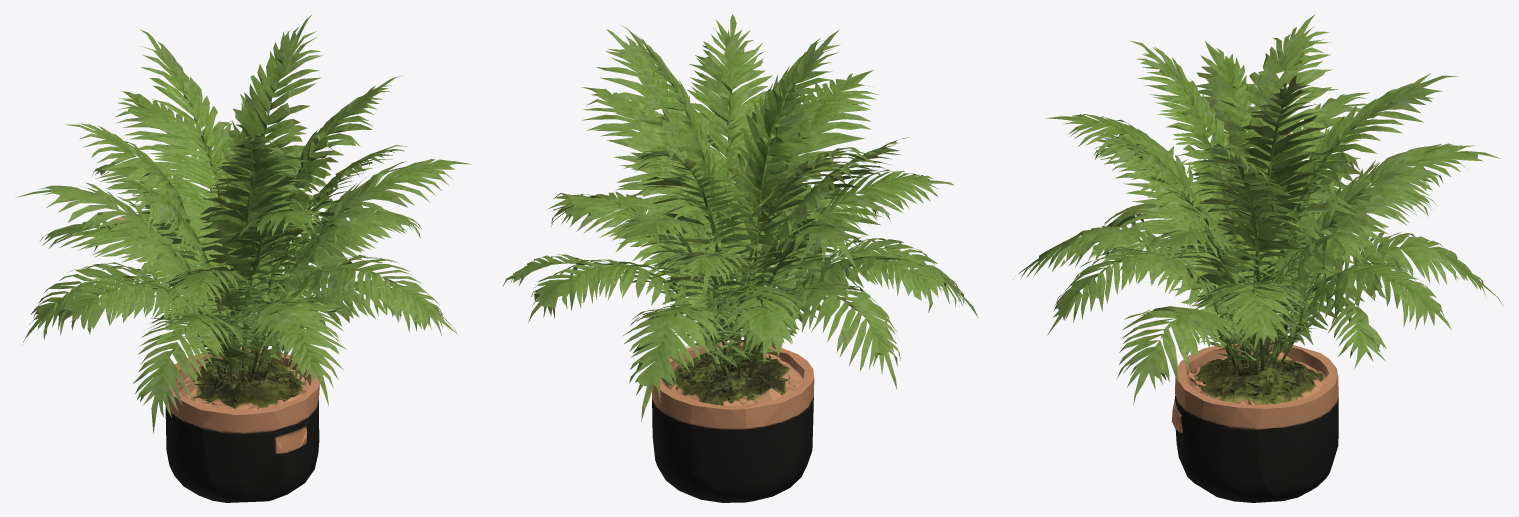
3 renders of one model, left to right at view 1: azimuth 30°, elevation 25°; view 2: azimuth 150°, elevation 25°; view 3: azimuth 270°, elevation 25°, orthographic. The views are drawn at different scales.
Parts seen in each view (by area): view 1: Mesh_0; view 2: Mesh_0; view 3: Mesh_0.
Part boxes in pixels (<box>): Mesh_0: <box>15,15,471,502</box>; Mesh_0: <box>502,14,978,502</box>; Mesh_0: <box>1013,14,1502,502</box>.
Bounding box in the file's own units: 1.74 × 1.9 × 1.89.
1 material, 1 textured.
